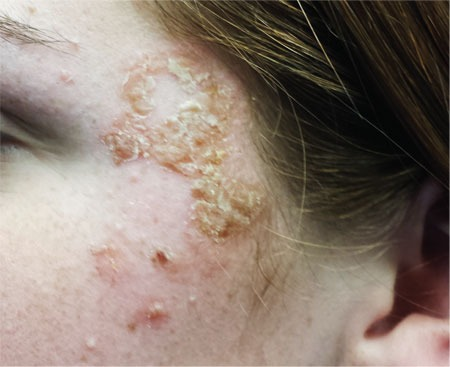Ringworm: (98, 48, 242, 181), (86, 238, 131, 290), (127, 298, 175, 335), (145, 242, 184, 280)
